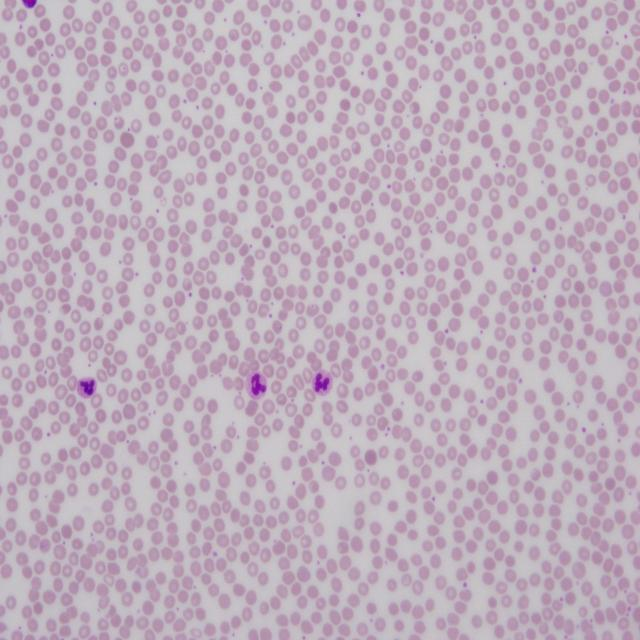cell: (314, 370, 332, 395)
